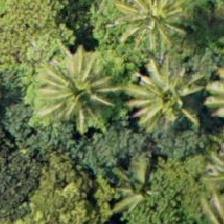coconut_tree: (28, 47, 118, 137), (104, 52, 194, 142)
